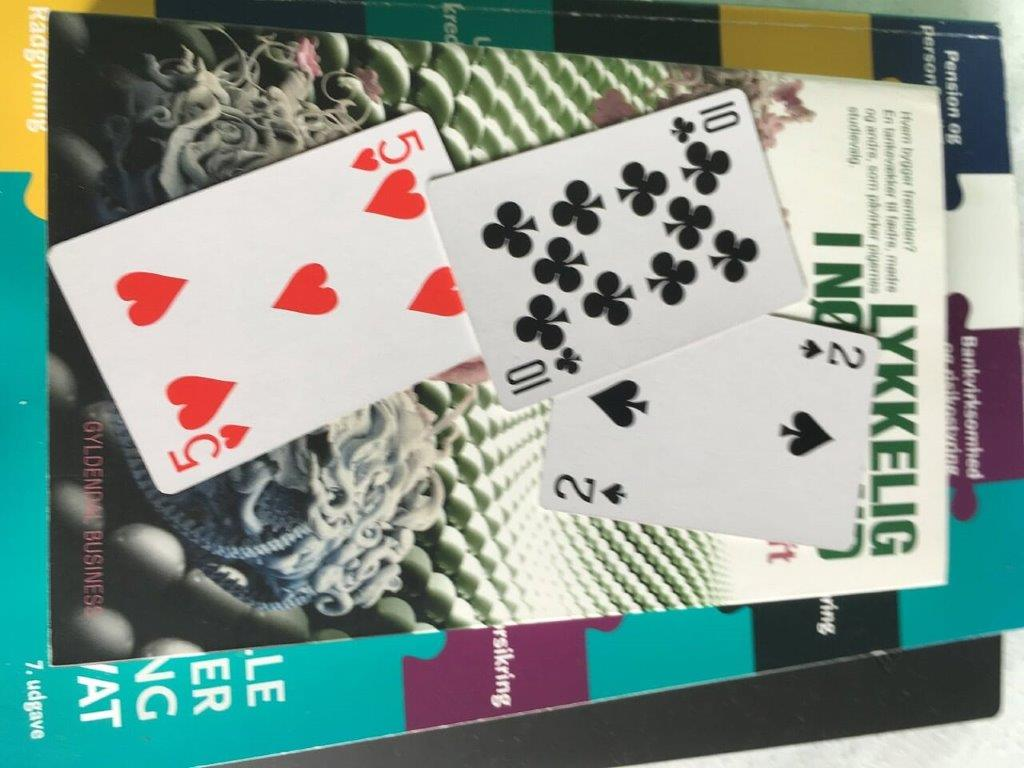10C: (425, 86, 809, 412)
2S: (538, 402, 873, 552)
5H: (44, 109, 424, 496)
